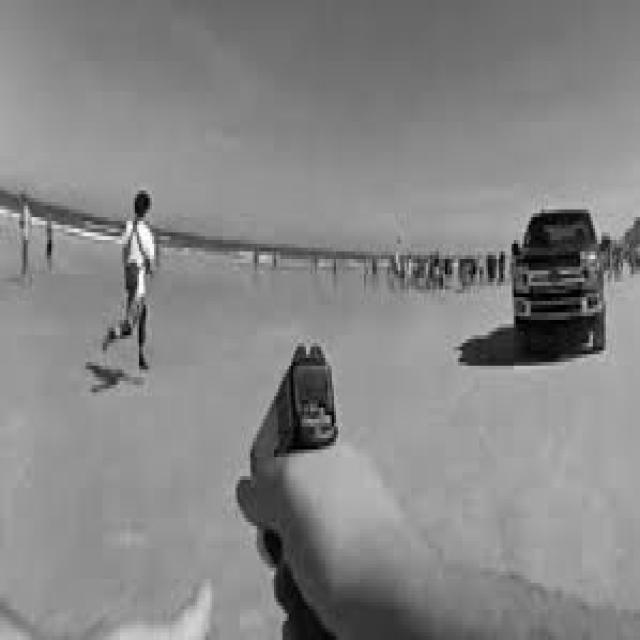handgun: (245, 338, 339, 491)
